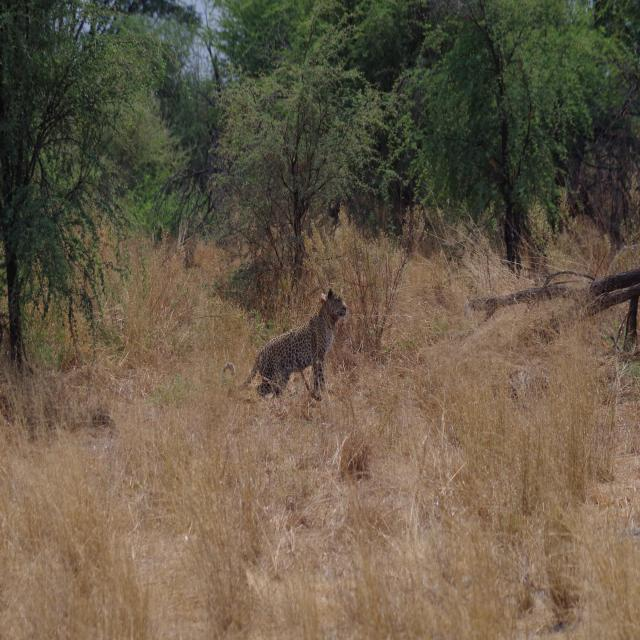Leopard: (247, 286, 353, 395)
